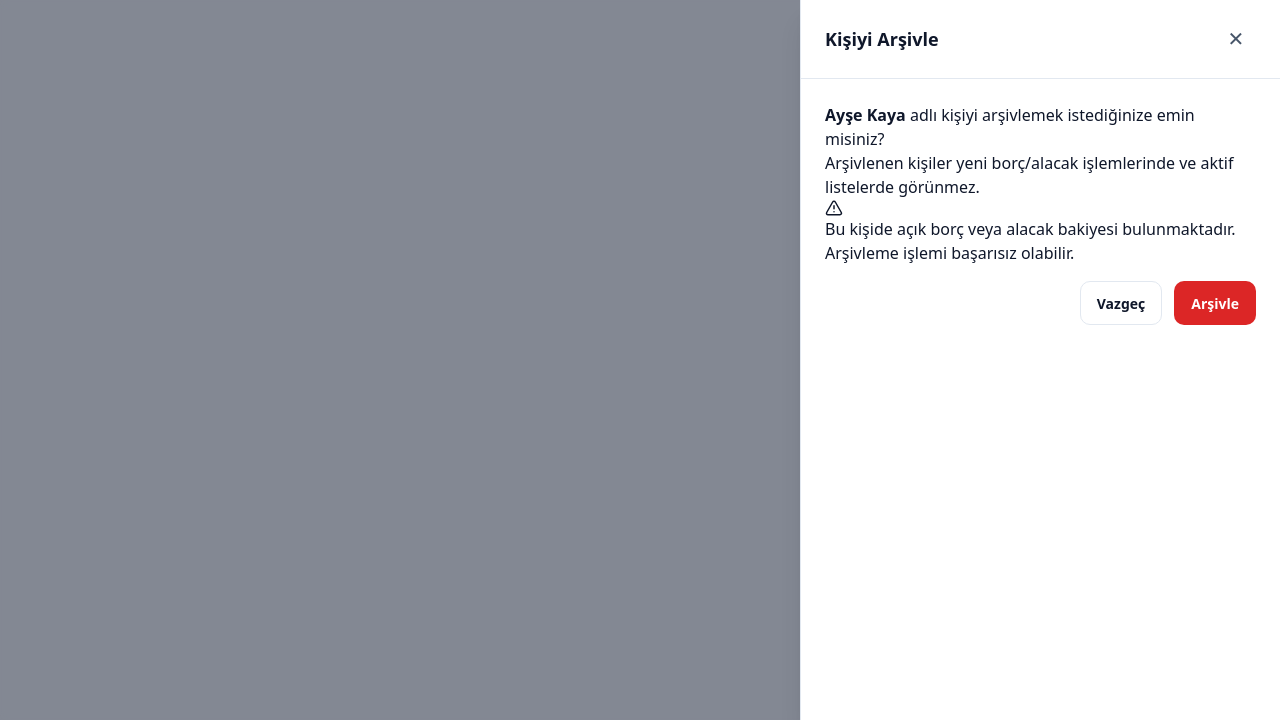
F6 People CRUD — Identity, OCC, Archive & Balance Distinction › shows natural conflict message when archiving person with outstanding balance
Expected: the element with test id "archive-balance-warning" is shown, x1=825 y1=199 x2=1256 y2=265
Click the button with test id "confirm-archive-btn" at (1215,303), box x1=1174 y1=281 x2=1256 y2=325
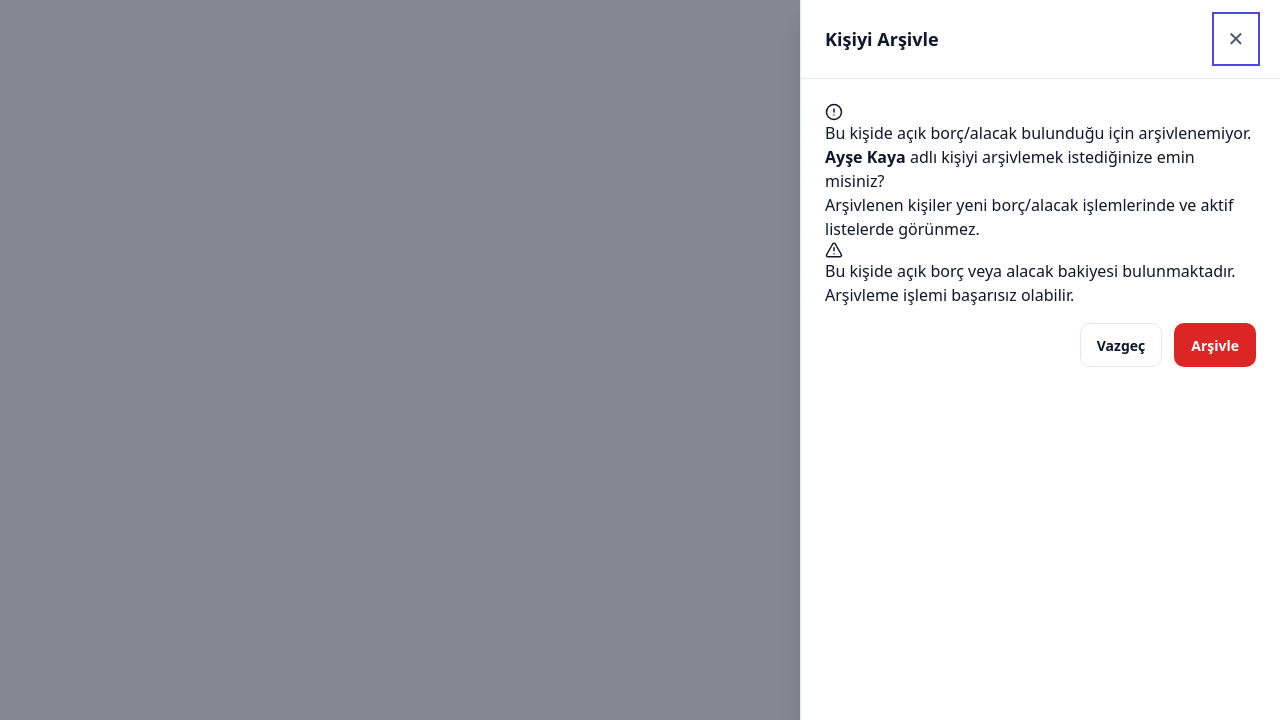
Now the text "Bu kişide açık borç/alacak bulunduğu için arşivlenemiyor." is shown, box x1=825 y1=122 x2=1251 y2=144
